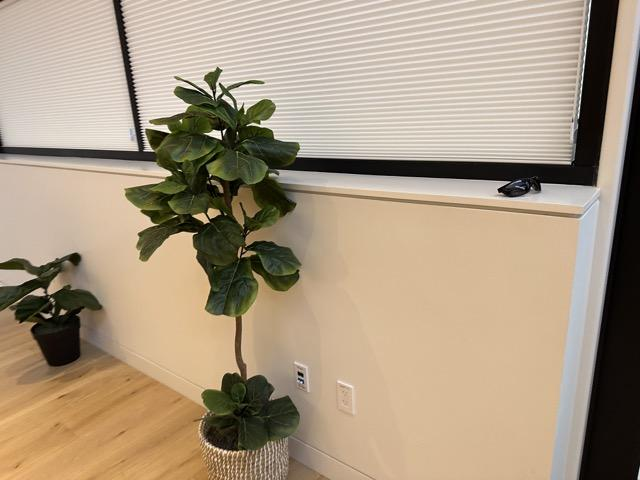Sunglasses: (498, 174, 542, 198)
